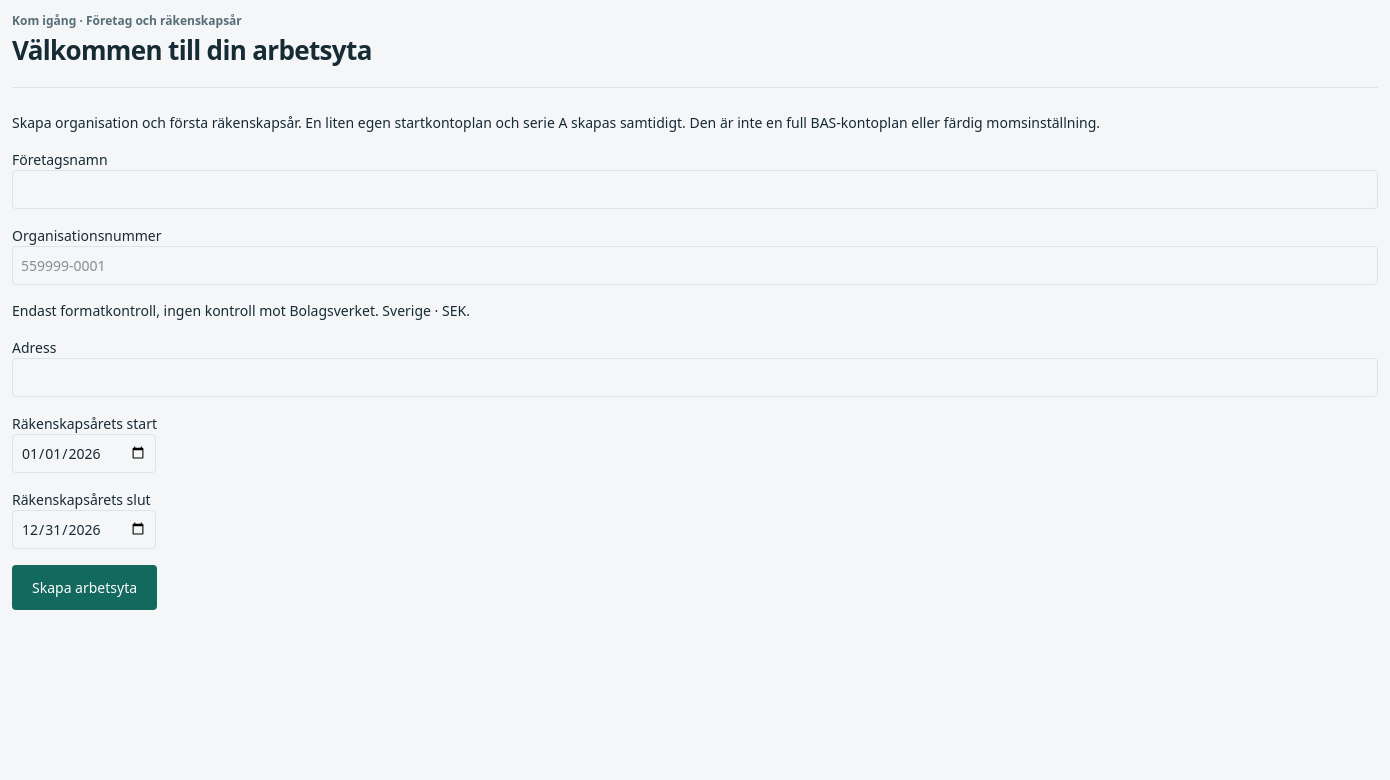
Test case: onboarding › keeps input and shows API rejection
Type "Bevara mig" into the field labelled "Företagsnamn".
click(695, 189); type("Bevara mig")  # box 12,170 -> 1378,208
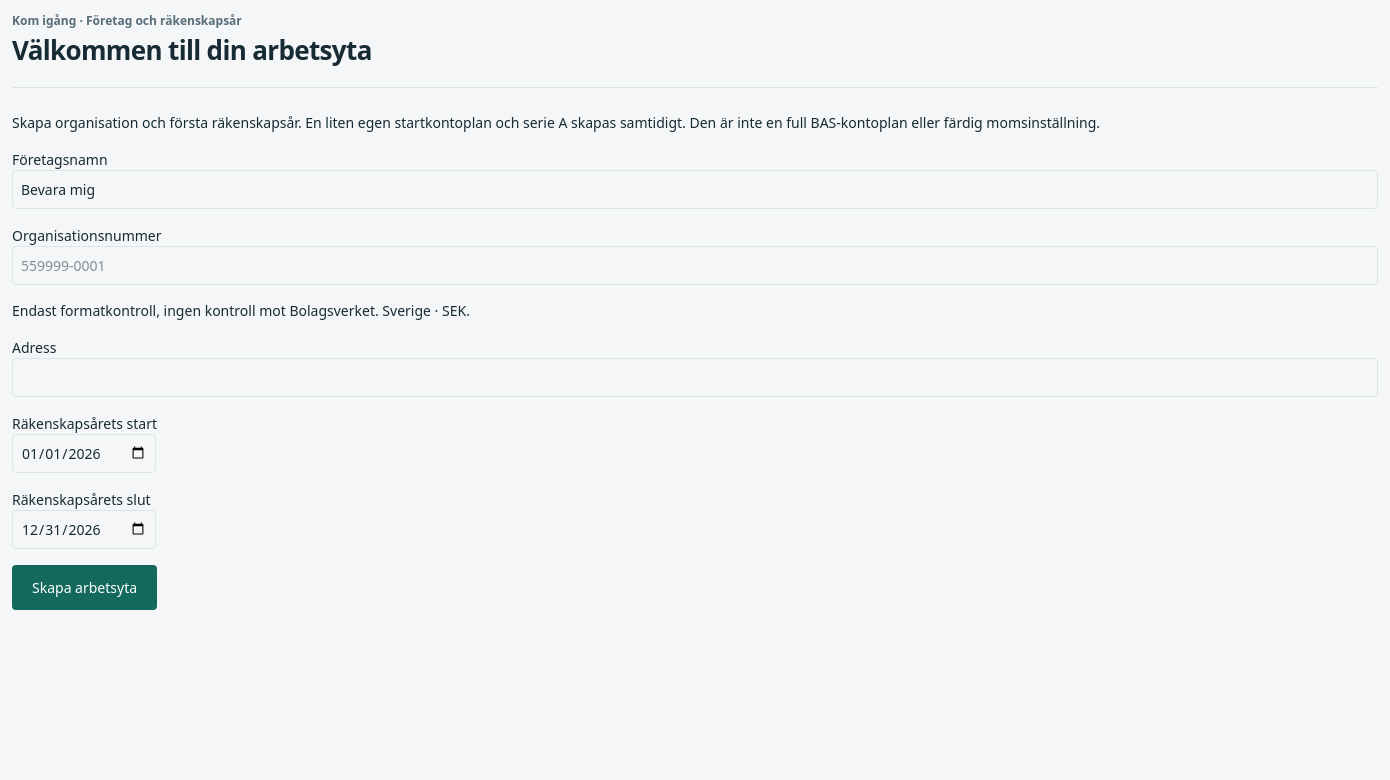
Click the button "Skapa arbetsyta".
click(85, 587)  # box 12,564 -> 157,610
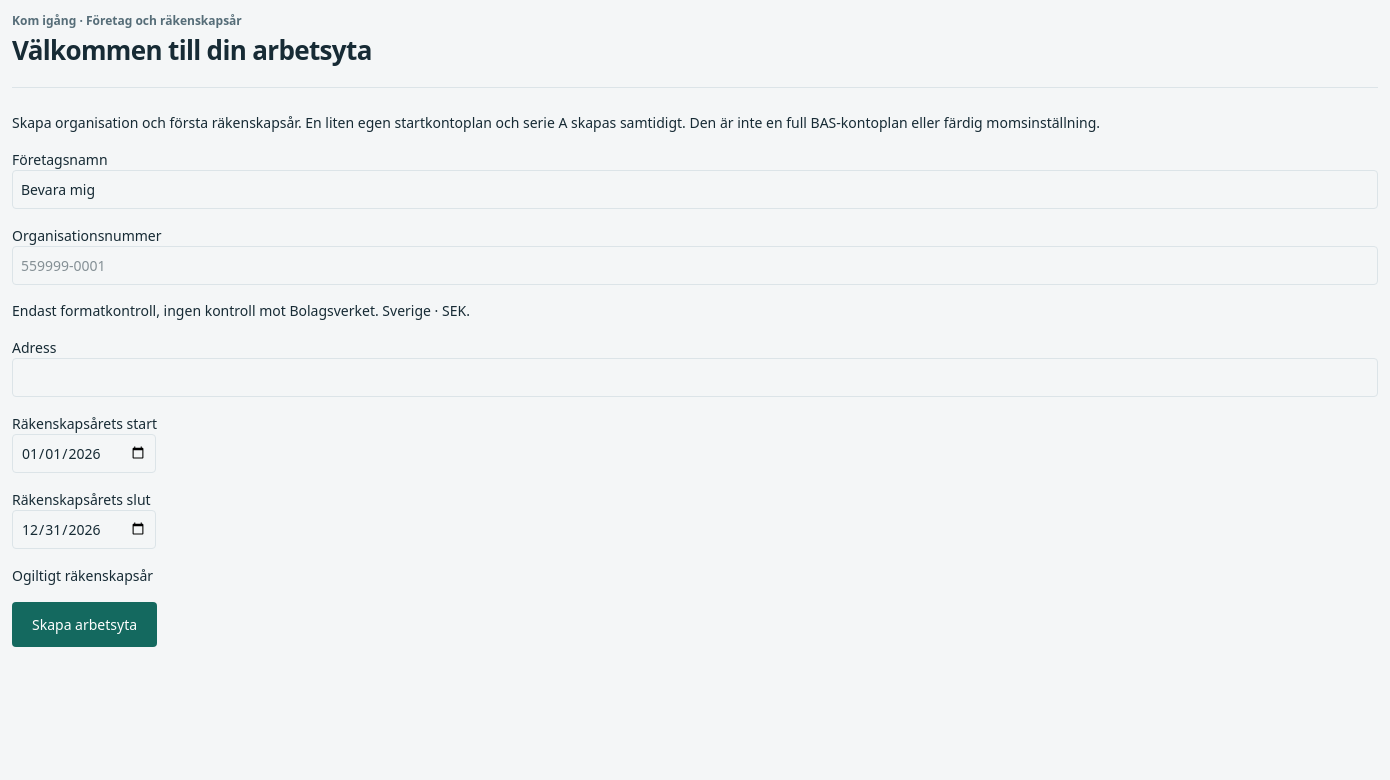
Now the message "Ogiltigt räkenskapsår" is shown, box 12,566 -> 153,584
